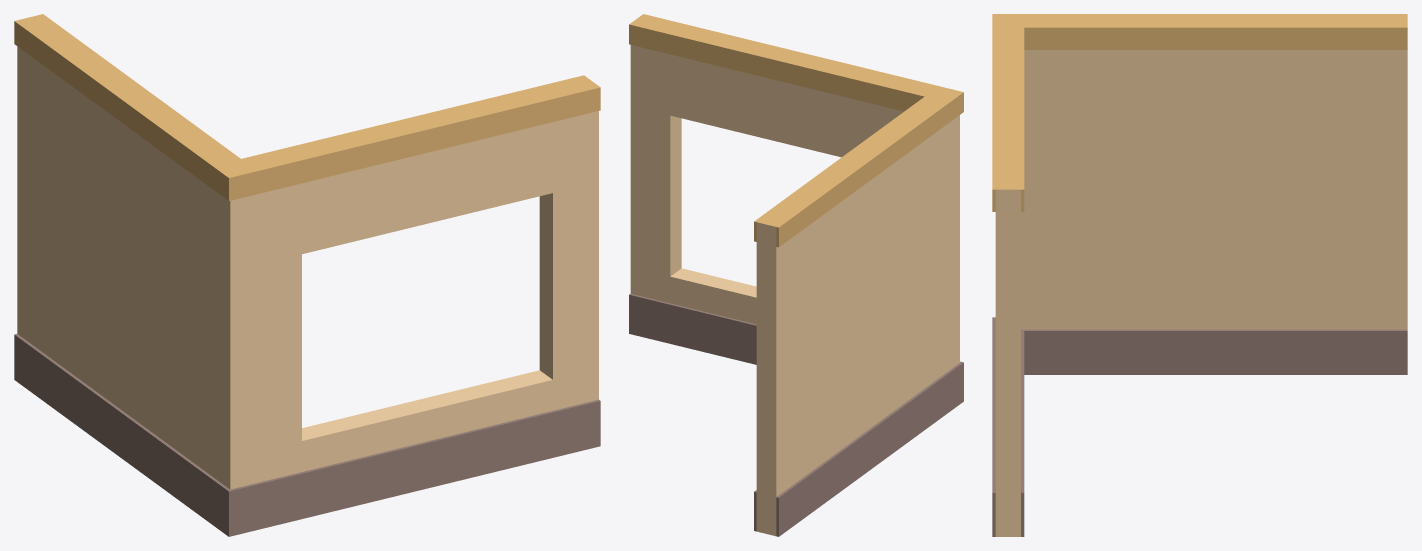
The model's file is Wall05-01.fbx.
3 renders of one model, left to right at view 1: azimuth 30°, elevation 25°; view 2: azimuth 150°, elevation 25°; view 3: azimuth 270°, elevation 25°, orthographic. The views are drawn at different scales.
Visible parts, largest first — view 1: Wall05-01; view 2: Wall05-01; view 3: Wall05-01.
Part boxes in pixels (bbox=[...]): Wall05-01: bbox=[14, 14, 600, 536]; Wall05-01: bbox=[629, 14, 963, 536]; Wall05-01: bbox=[992, 14, 1407, 536].
Bounding box in the file's own units: 3.25 × 3.25 × 3.
